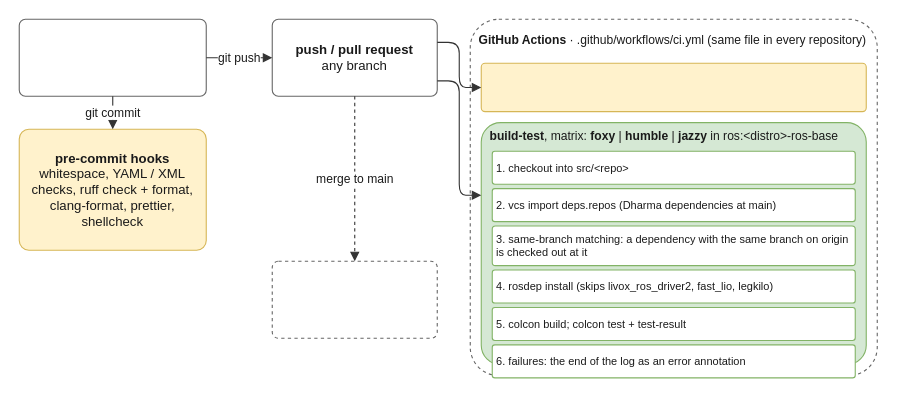
Image size: 897x397. Some labels were removed from this diagram. The centre of each missing label's shape, as x and y in pixels:
"developer pre-commit install: the same hooks run before every commit" goes at (x=112, y=57).
"lint (ubuntu-24.04) pre-commit run --all-files" goes at (x=673, y=87).
"release SemVer tag; products pin versions in their .repos" goes at (x=354, y=299).
